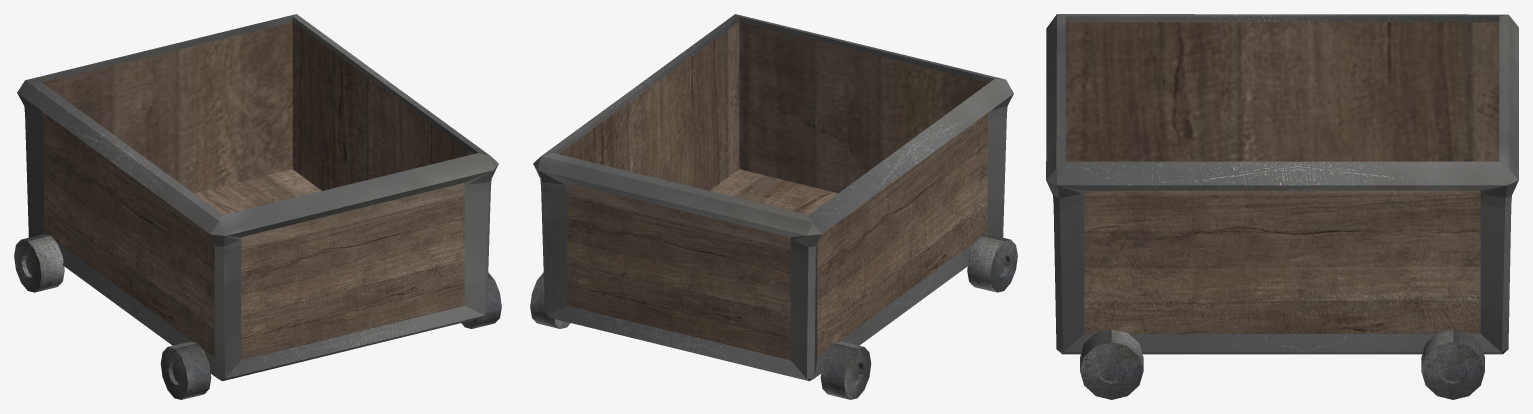
File: MineCart Model.fbx
3 renders of one model, left to right at view 1: azimuth 30°, elevation 25°; view 2: azimuth 150°, elevation 25°; view 3: azimuth 270°, elevation 25°, orthographic. The views are drawn at different scales.
Parts seen in each view (by area): view 1: Plane001, Cylinder002; view 2: Plane001, Cylinder002; view 3: Plane001, Cylinder002.
Boxes of the visible parts, bbox=[...] form: Plane001: bbox=[17, 14, 498, 381]; Cylinder002: bbox=[14, 234, 501, 399]; Plane001: bbox=[533, 14, 1013, 381]; Cylinder002: bbox=[530, 234, 1017, 399]; Plane001: bbox=[1046, 14, 1518, 354]; Cylinder002: bbox=[1080, 329, 1484, 399].
Bounding box in the file's own units: 45.72 × 26.52 × 51.22.
2 materials, 2 textured.
